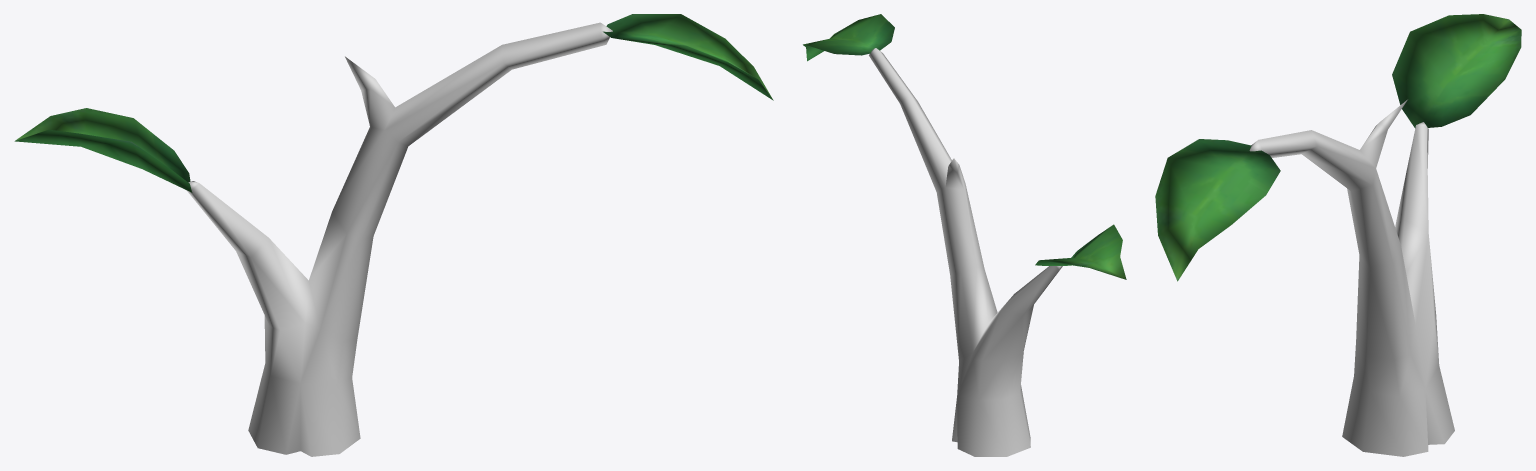
File: P_plant_1312.fbx
The picture shows the model from 3 angles, left to right: view 1: azimuth 30°, elevation 25°; view 2: azimuth 150°, elevation 25°; view 3: azimuth 270°, elevation 25°; orthographic projection. The views are drawn at different scales.
Visible parts, largest first — view 1: S_plant_1312_a, S_plant_1312_b; view 2: S_plant_1312_a, S_plant_1312_b; view 3: S_plant_1312_a, S_plant_1312_b.
Boxes of the visible parts, box(x1,y1,x2,y2) form: S_plant_1312_a: box(187, 22, 612, 456); S_plant_1312_b: box(14, 14, 773, 192); S_plant_1312_a: box(869, 48, 1062, 456); S_plant_1312_b: box(803, 14, 1126, 279); S_plant_1312_a: box(1249, 99, 1454, 456); S_plant_1312_b: box(1155, 14, 1521, 281).
Size of the model in its own units: 1.21 by 0.8118 by 0.6663.
